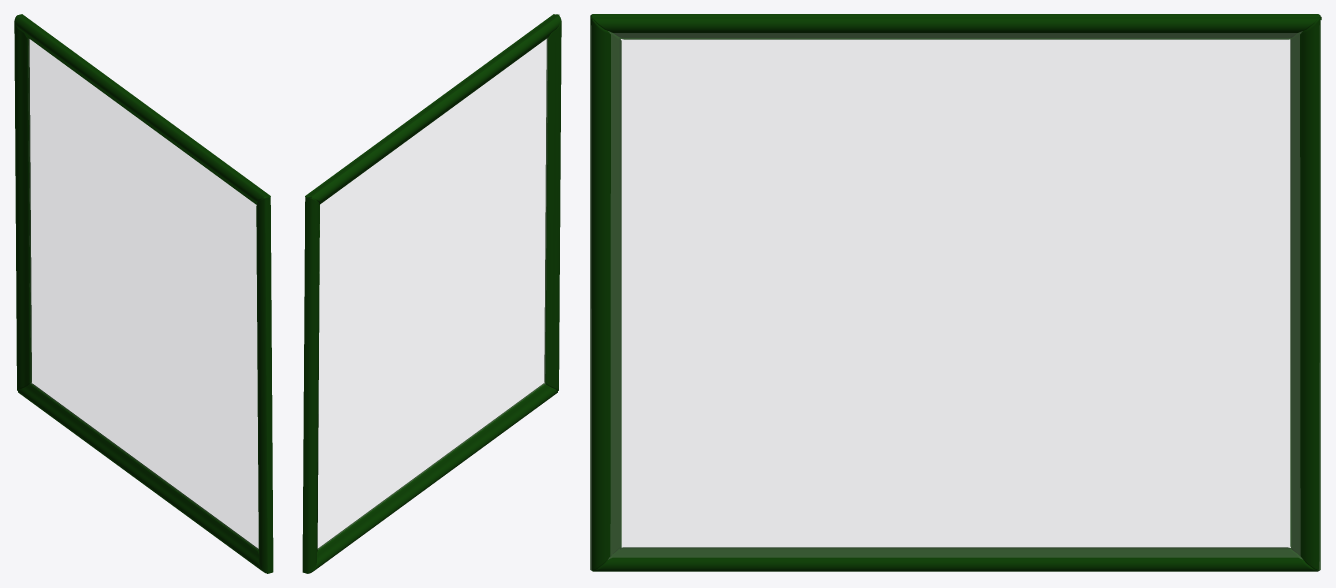
Rendered from window.gltf.
3 views of the same model, side by side, from view 1: azimuth 30°, elevation 25°; view 2: azimuth 150°, elevation 25°; view 3: azimuth 270°, elevation 25° (orthographic). The views are drawn at different scales.
Parts seen in each view (by area): view 1: subset_7.004; view 2: subset_7.004; view 3: subset_7.004.
Boxes of the visible parts, bbox=[...] form: subset_7.004: bbox=[14, 14, 273, 573]; subset_7.004: bbox=[302, 14, 561, 573]; subset_7.004: bbox=[590, 14, 1321, 571].
Size of the model in its own units: 0.0929 by 2.32 by 2.78.
